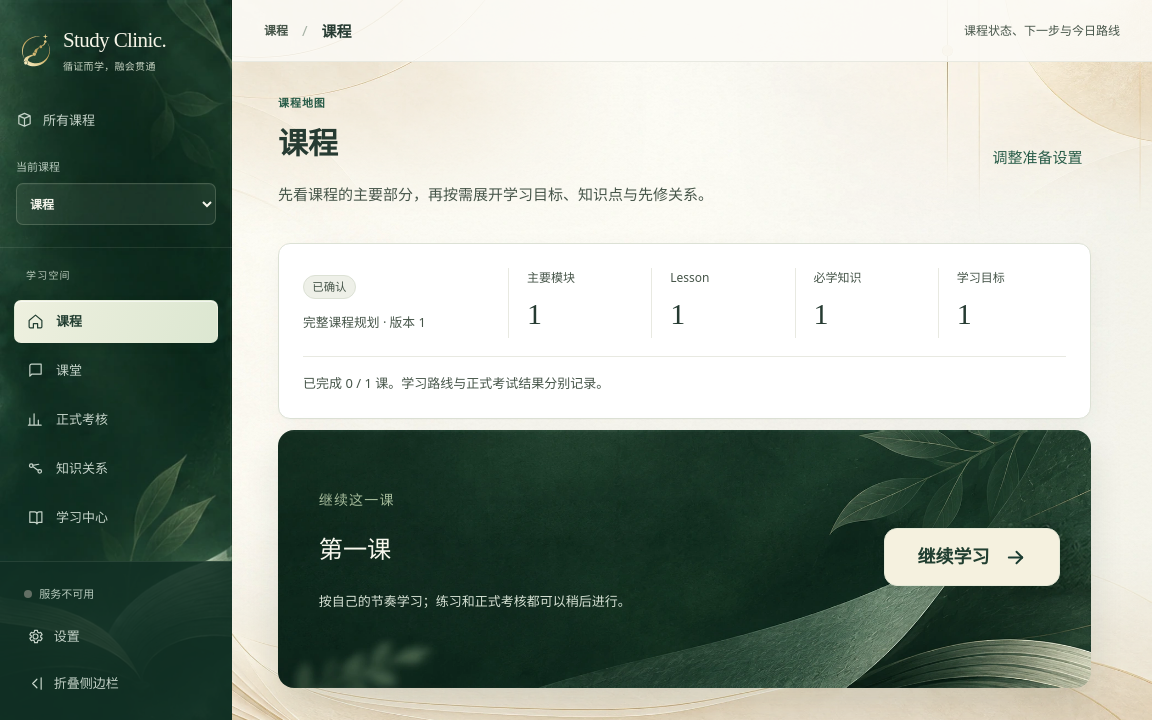
Test: 完整规划与独立学习界面 › 回到已结束Retest保留原答案；切回Lesson清除补救，继续后只主动完成当前课
This screenshot has width=1152, height=720.
Click the button "学习中心".
click(116, 517)  # box [14,496,218,539]
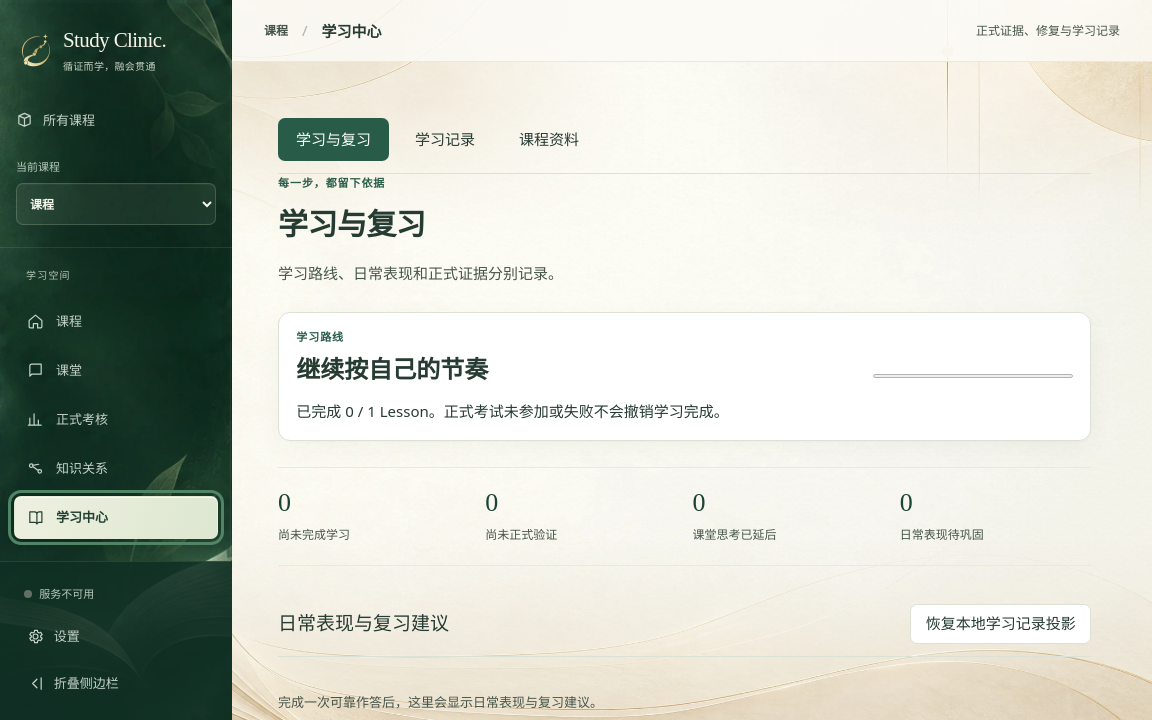
Click the tab "学习记录".
click(445, 139)  # box [397,118,493,161]
(page scrolled)
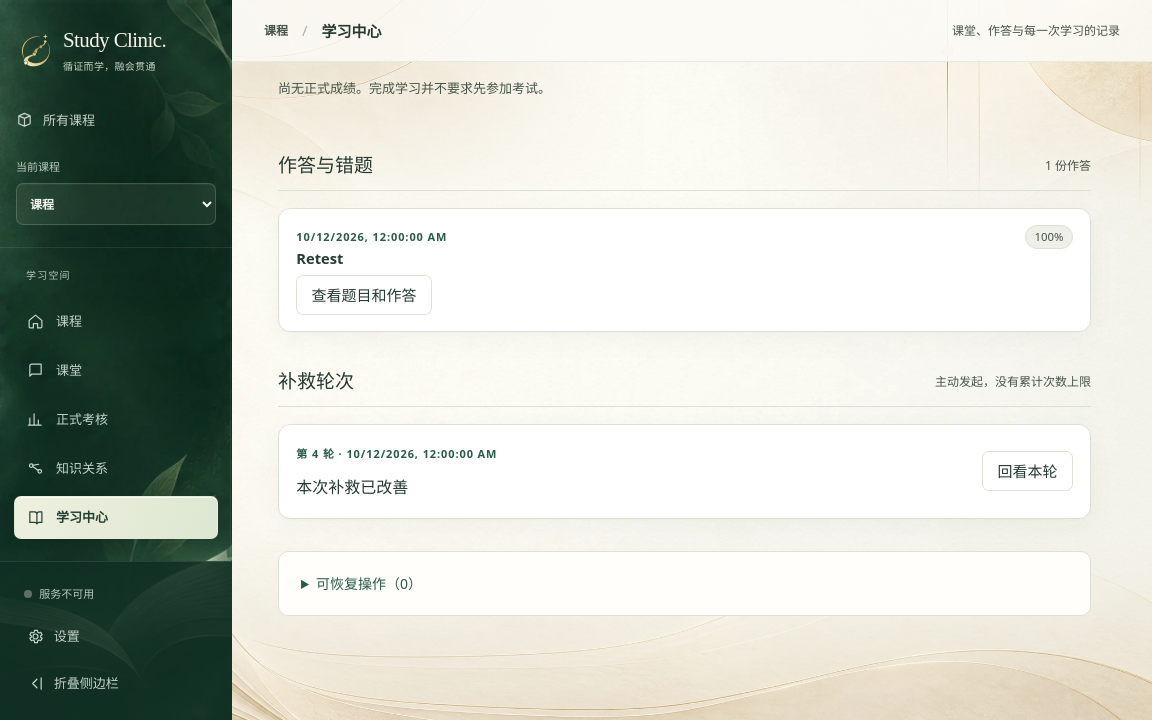
Click the button "回看本轮".
click(1027, 471)  # box [982,451,1073,491]
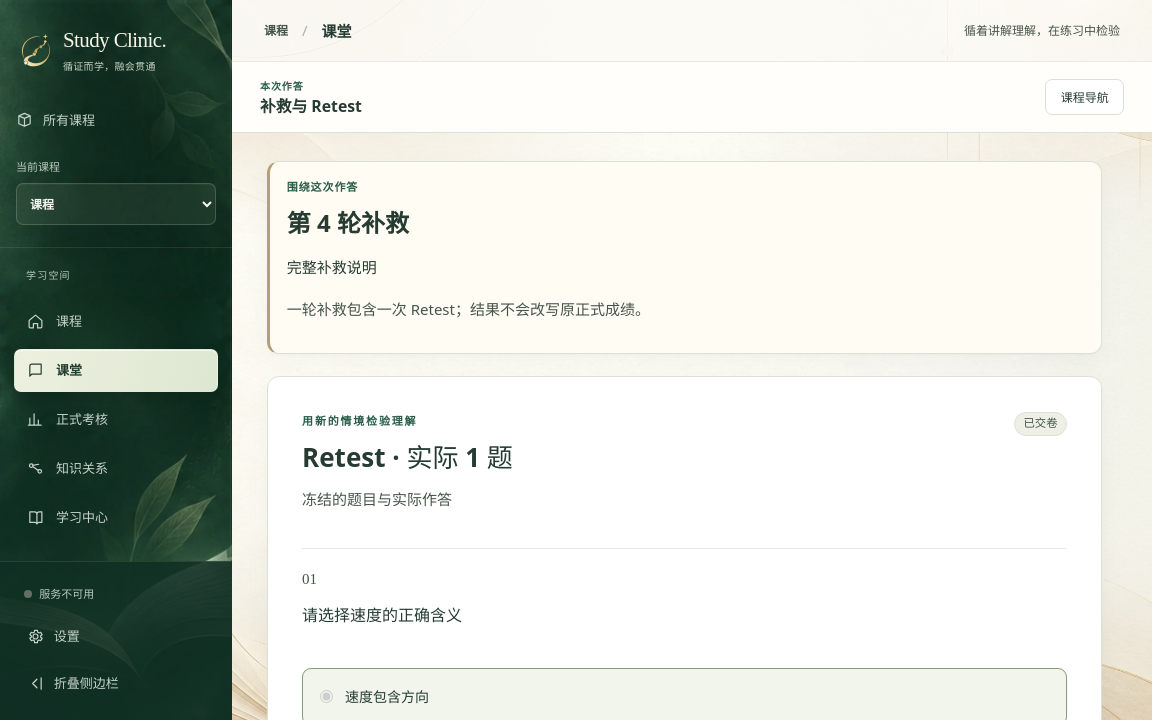
Check: the heading "第 4 轮补救" is shown, box [287,206,409,239]
Check: the radio button labelled "速度包含方向" is checked, box [320,690,333,703]
Click the button "课程".
click(116, 321)  # box [14,300,218,343]
(page scrolled)
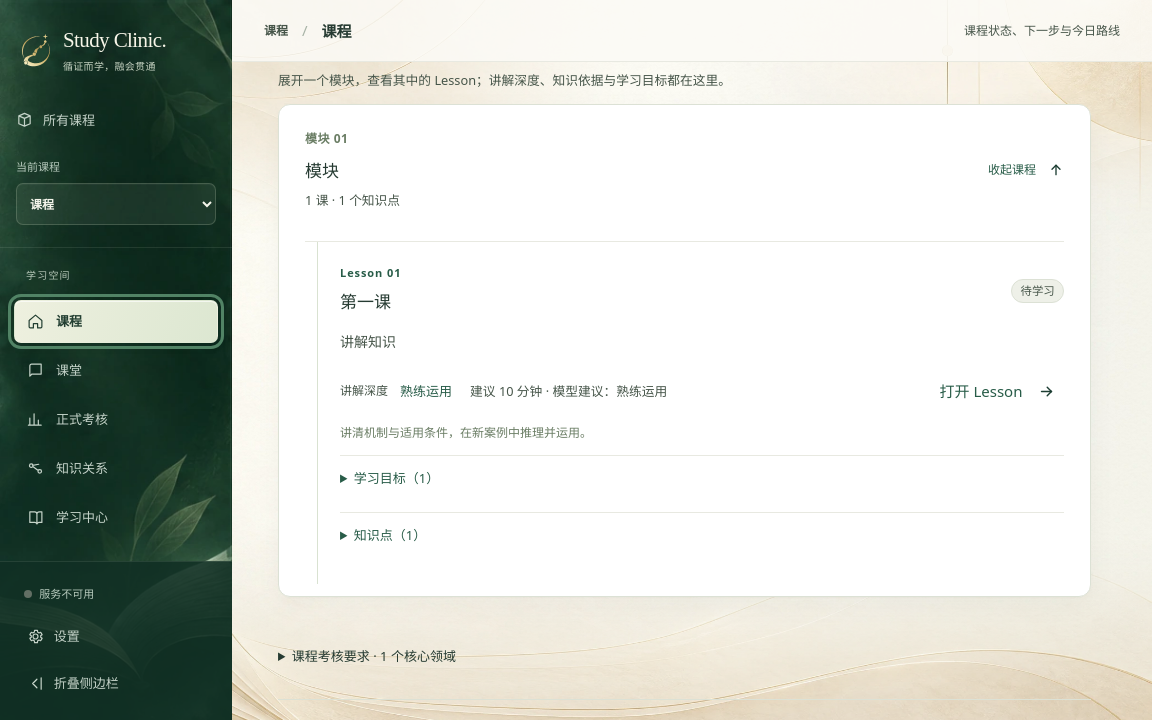
Click the button "打开 Lesson".
click(997, 391)  # box [931,371,1064,411]
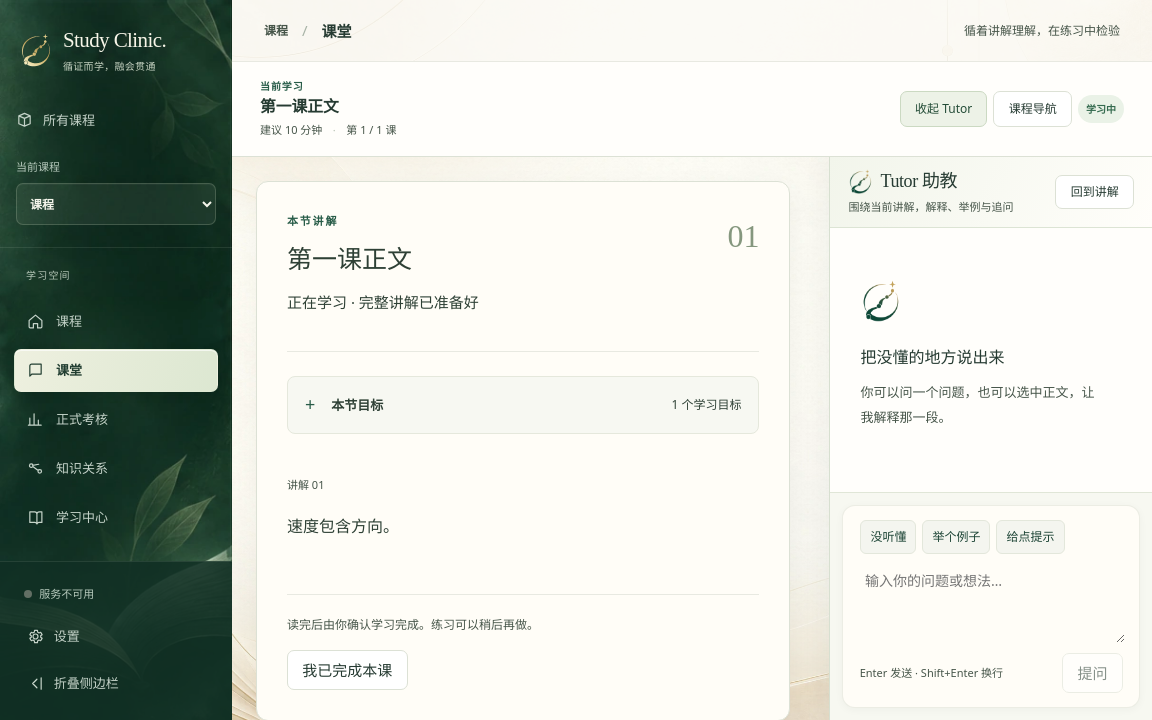
Check: the heading "第 4 轮补救" is not shown
Check: the heading "第一课正文" below "本节讲解" is shown, box [287,241,412,275]
Check: the button "我已完成本课" is enabled, box [287,650,408,690]
